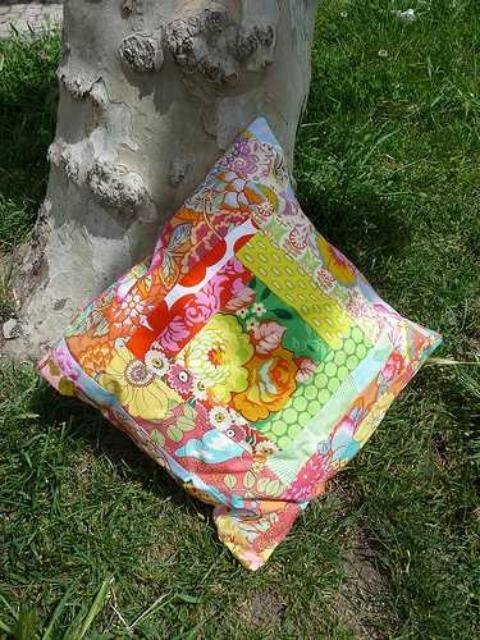pillow: (34, 114, 444, 570)
